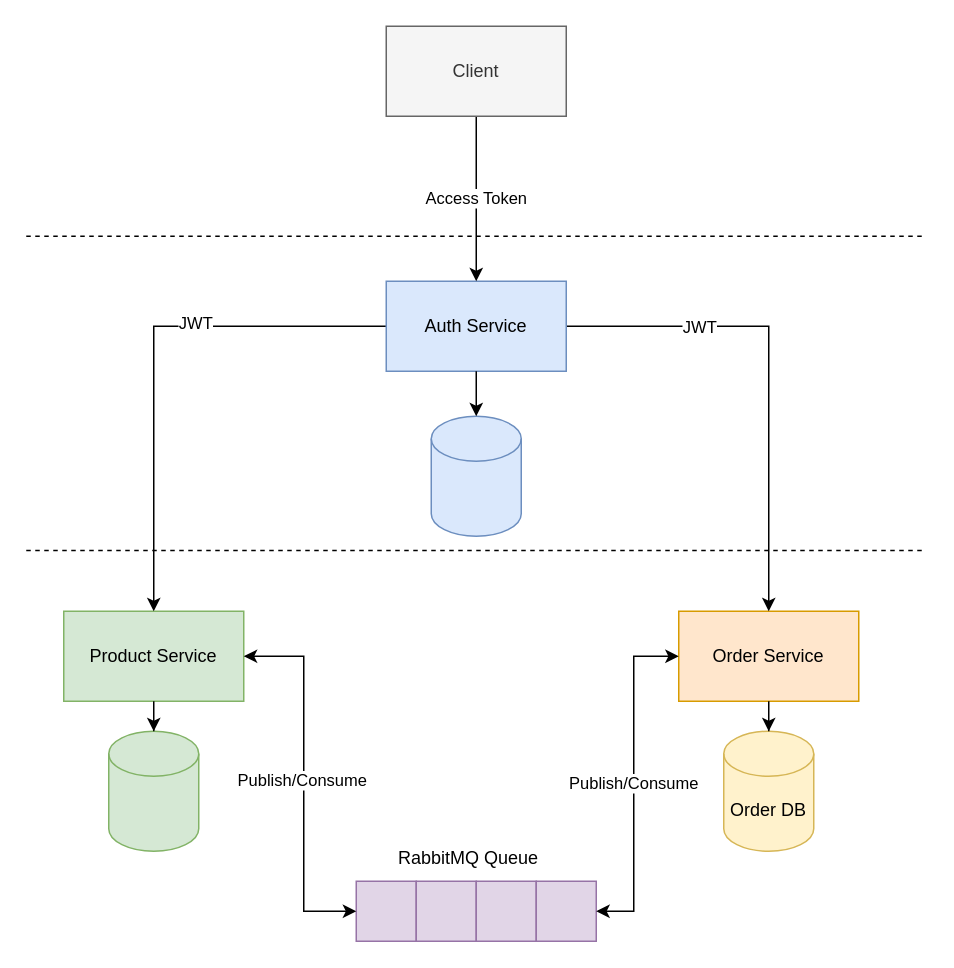
This 954x968 diagram has some shape labels left out. The centre of each missing label's shape, as x and y in pixels:
"Product DB" belongs at (153,790).
"User DB" belongs at (475,475).
